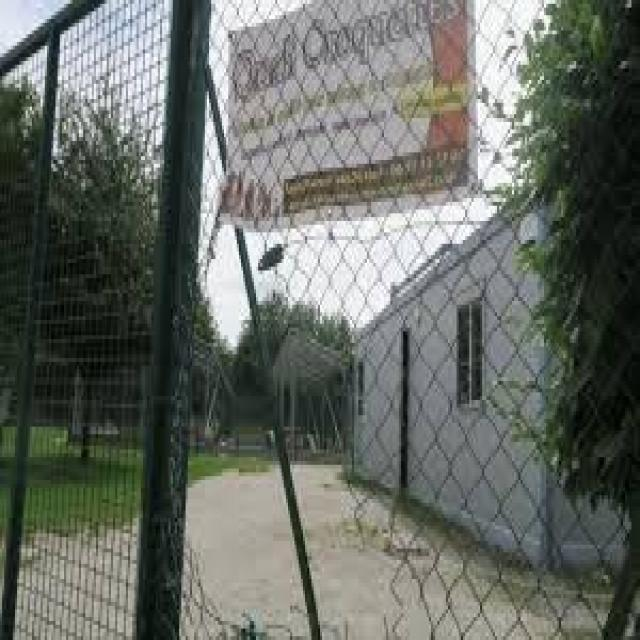fence line: (186, 222, 397, 623)
